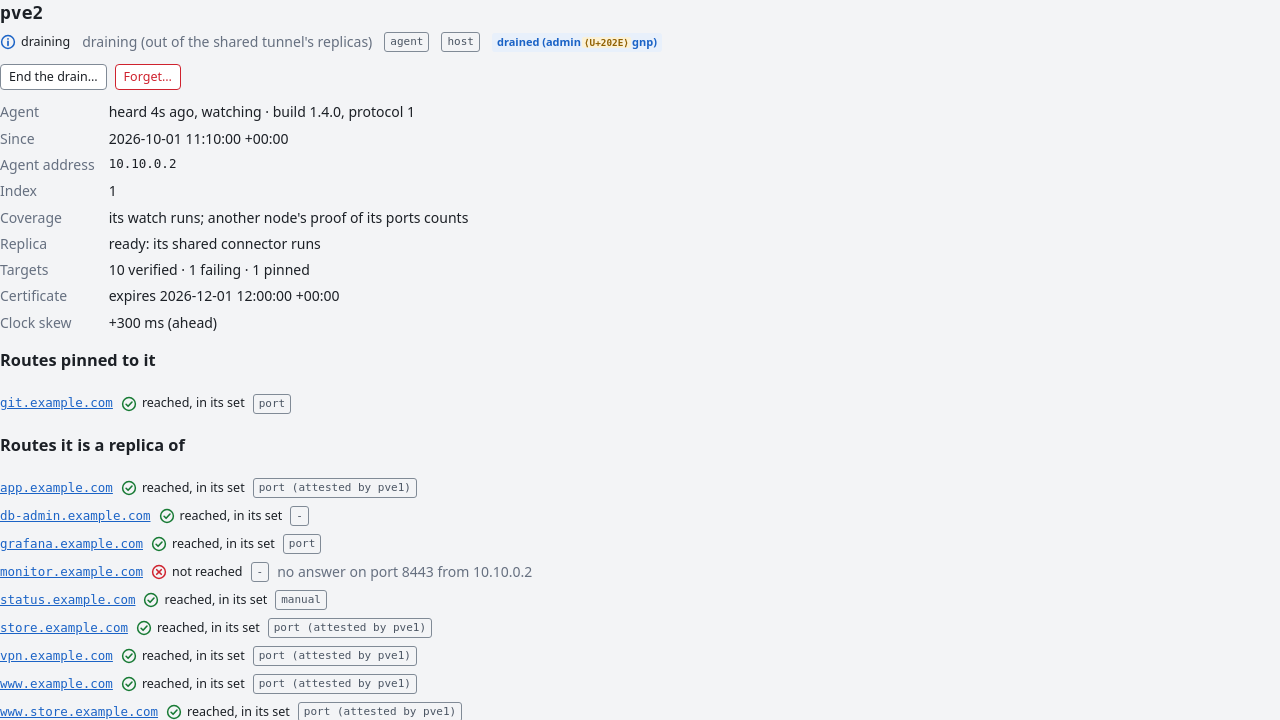
Scenario: draining and forgetting › why a node is drained is shown as untrusted text, on the page and in the dialog
The width and height of the screenshot is (1280, 720).
Expected: the text "⟨U+202E⟩" is shown, [582,37,631,48]
Click the button "End the drain…": click(53, 77) [0,64,107,90]
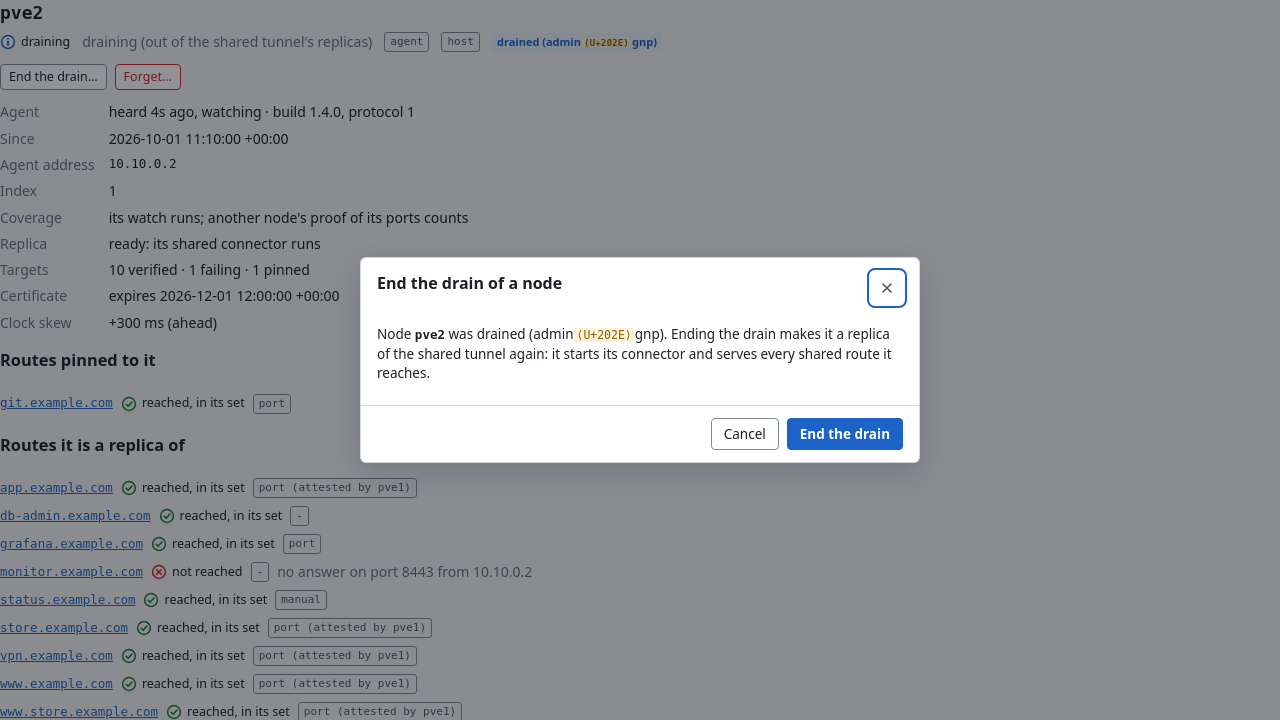
Expected: the dialog shows "was drained (admin", [360,257,920,463]
